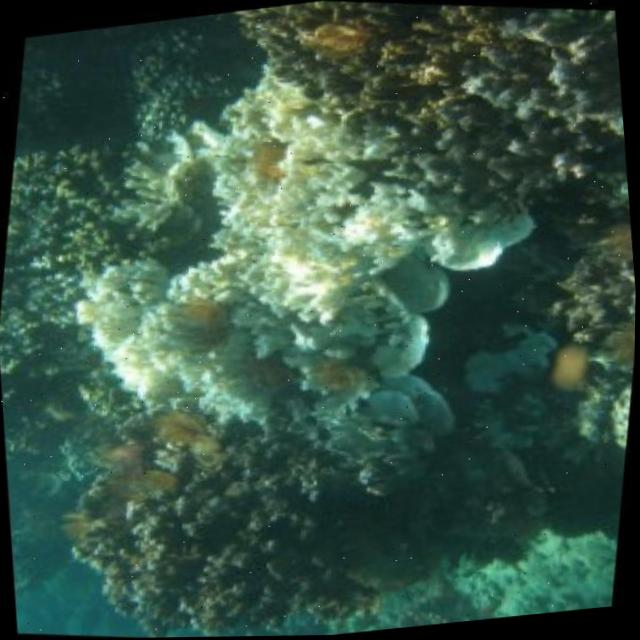Bleached Coral: (70, 84, 519, 504)
